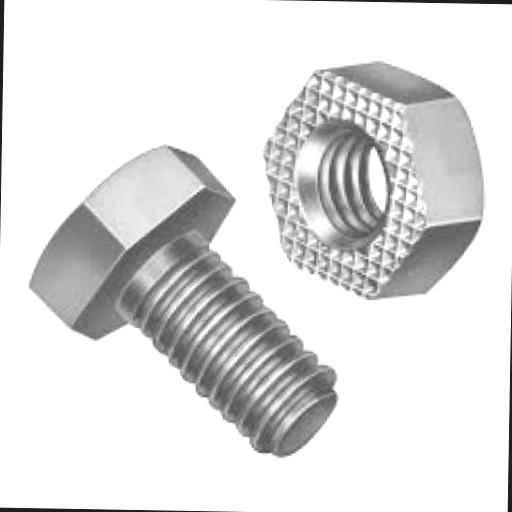metal: (22, 139, 340, 454), (259, 56, 484, 302)
